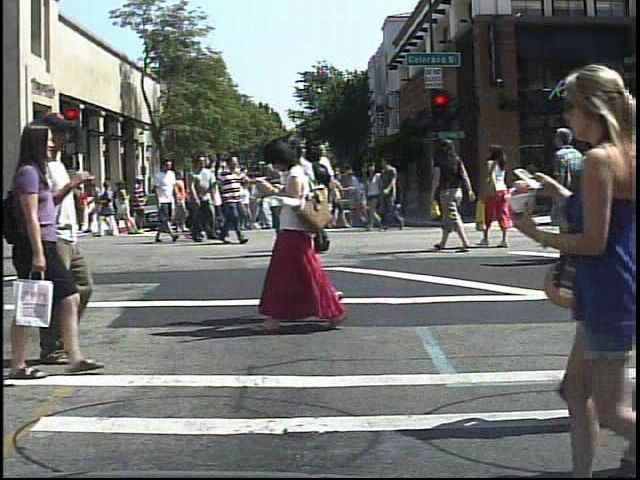person: (2, 112, 89, 384), (43, 108, 114, 370), (255, 135, 341, 336), (288, 130, 361, 329), (581, 132, 624, 279), (549, 119, 590, 270), (260, 135, 305, 264), (426, 134, 474, 250), (305, 150, 350, 261), (299, 141, 341, 251), (478, 142, 518, 256), (212, 151, 250, 246), (186, 154, 222, 249), (579, 147, 612, 245), (148, 156, 181, 246), (129, 172, 150, 240), (72, 182, 92, 233)
